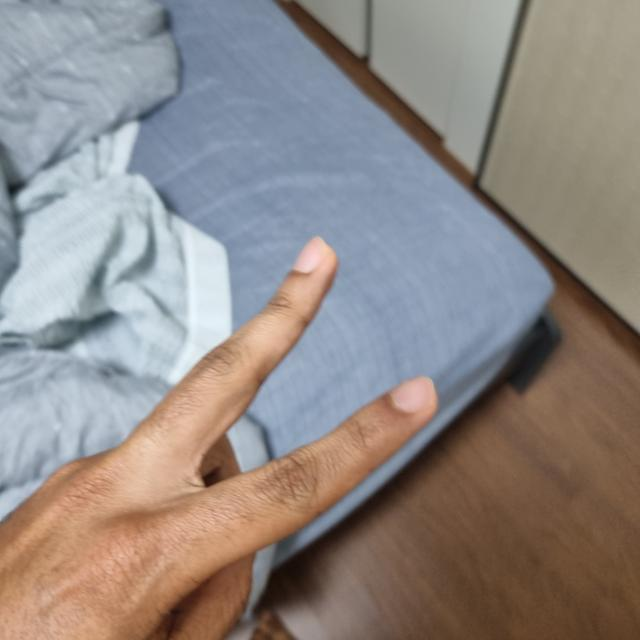Scissors: (0, 240, 433, 638)
